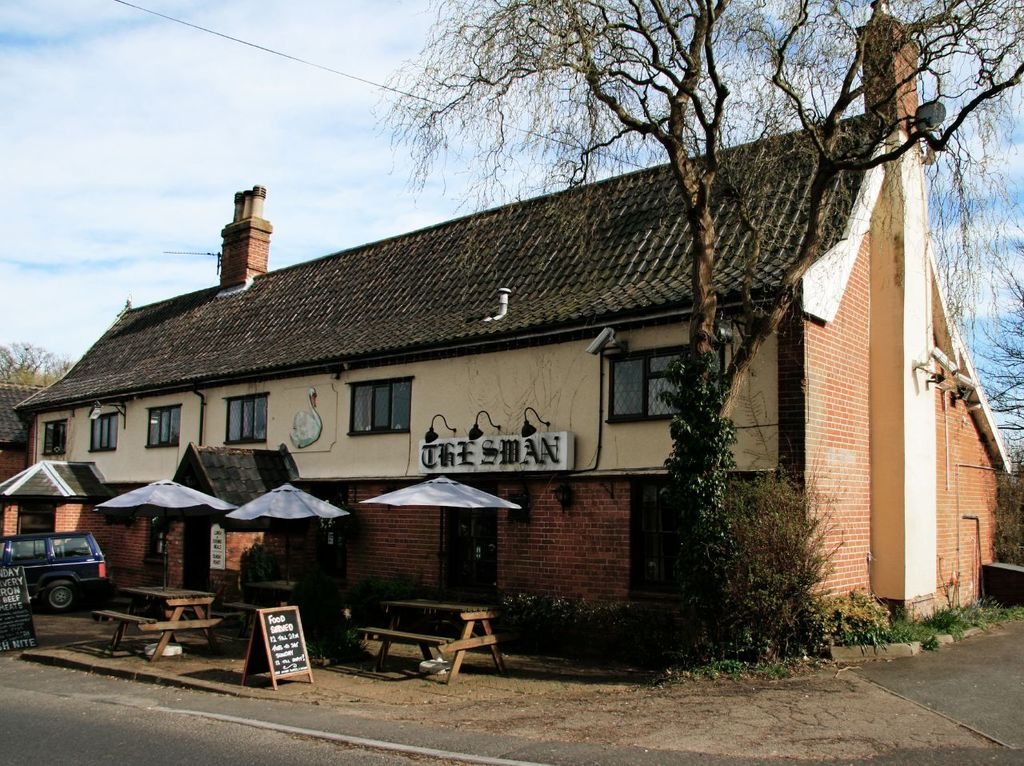Tree: (371, 0, 1023, 633), (969, 246, 1023, 564), (0, 340, 79, 387)
